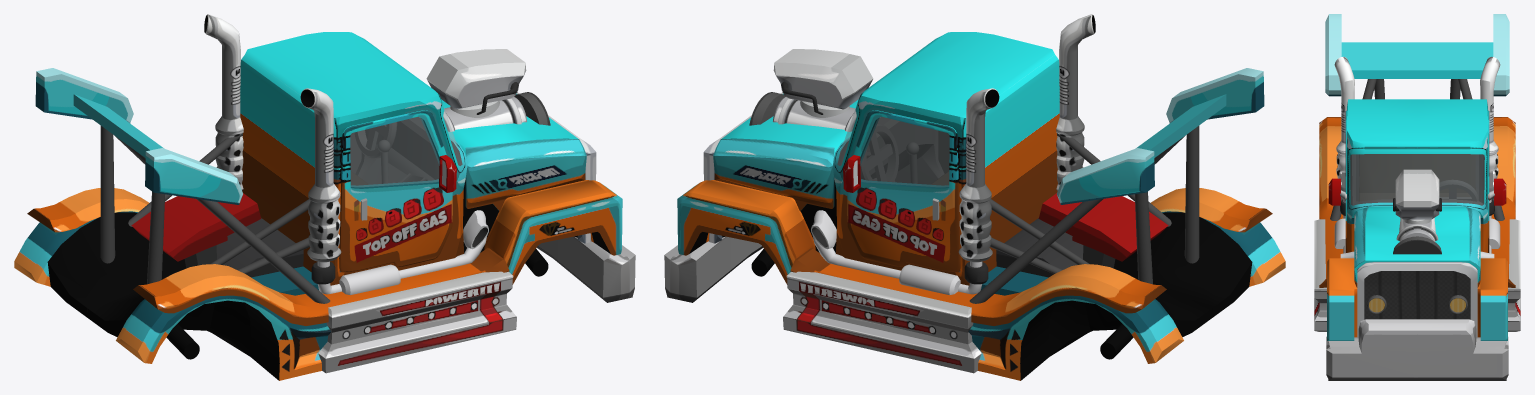
The model's file is chassis_4.glb.
The picture shows the model from 3 angles, left to right: view 1: azimuth 30°, elevation 25°; view 2: azimuth 150°, elevation 25°; view 3: azimuth 270°, elevation 25°; orthographic projection. The views are drawn at different scales.
Parts seen in each view (by area): view 1: HCR2_RT_Body_18, HCR2_RT_Details_15, HCR2_RT_Right_Door_9, HCR2_RT_Spoiler_7, HCR2_RT_Exhausts_13, HCR2_RT_Chassis_16, HCR2_RT_Engine_14, HCR2_RT_Interior_11, HCR2_RT_Bumper_17, HCR2_RT_Susp_5, HCR2_RT_Steer_6; view 2: HCR2_RT_Body_18, HCR2_RT_Details_15, HCR2_RT_Left_Door_10, HCR2_RT_Spoiler_7, HCR2_RT_Exhausts_13, HCR2_RT_Chassis_16, HCR2_RT_Engine_14, HCR2_RT_Bumper_17, HCR2_RT_Interior_11, HCR2_RT_Steer_6, HCR2_RT_Susp_5; view 3: HCR2_RT_Body_18, HCR2_RT_Bumper_17, HCR2_RT_Spoiler_7, HCR2_RT_Window_4, HCR2_RT_Details_15, HCR2_RT_Seat_8, HCR2_RT_Engine_14, HCR2_RT_Exhausts_13, HCR2_RT_Interior_11, HCR2_RT_Right_Door_9, HCR2_RT_Left_Door_10, HCR2_RT_Lights_12 (+1 smaller).
Part boxes in pixels (x1=…): HCR2_RT_Body_18: x1=14, y1=32, x2=622, y2=380; HCR2_RT_Details_15: x1=128, y1=92, x2=596, y2=373; HCR2_RT_Right_Door_9: x1=339, y1=110, x2=456, y2=272; HCR2_RT_Spoiler_7: x1=35, y1=68, x2=330, y2=303; HCR2_RT_Exhausts_13: x1=204, y1=14, x2=488, y2=295; HCR2_RT_Chassis_16: x1=47, y1=212, x2=577, y2=356; HCR2_RT_Engine_14: x1=426, y1=49, x2=550, y2=131; HCR2_RT_Interior_11: x1=339, y1=113, x2=462, y2=272; HCR2_RT_Bumper_17: x1=536, y1=236, x2=635, y2=302; HCR2_RT_Susp_5: x1=166, y1=249, x2=548, y2=359; HCR2_RT_Steer_6: x1=354, y1=122, x2=397, y2=158; HCR2_RT_Body_18: x1=677, y1=32, x2=1285, y2=380; HCR2_RT_Details_15: x1=703, y1=92, x2=1171, y2=373; HCR2_RT_Left_Door_10: x1=843, y1=110, x2=960, y2=272; HCR2_RT_Spoiler_7: x1=969, y1=68, x2=1264, y2=303; HCR2_RT_Exhausts_13: x1=811, y1=14, x2=1095, y2=295; HCR2_RT_Chassis_16: x1=722, y1=212, x2=1252, y2=356; HCR2_RT_Engine_14: x1=749, y1=49, x2=873, y2=131; HCR2_RT_Bumper_17: x1=664, y1=236, x2=763, y2=302; HCR2_RT_Interior_11: x1=837, y1=113, x2=960, y2=272; HCR2_RT_Steer_6: x1=860, y1=123, x2=898, y2=182; HCR2_RT_Susp_5: x1=751, y1=249, x2=1133, y2=359; HCR2_RT_Body_18: x1=1319, y1=99, x2=1515, y2=340; HCR2_RT_Bumper_17: x1=1326, y1=319, x2=1508, y2=380; HCR2_RT_Spoiler_7: x1=1325, y1=14, x2=1509, y2=220; HCR2_RT_Window_4: x1=1350, y1=154, x2=1484, y2=205; HCR2_RT_Details_15: x1=1314, y1=219, x2=1520, y2=338; HCR2_RT_Seat_8: x1=1359, y1=154, x2=1475, y2=201; HCR2_RT_Engine_14: x1=1393, y1=169, x2=1441, y2=254; HCR2_RT_Exhausts_13: x1=1334, y1=56, x2=1500, y2=258; HCR2_RT_Interior_11: x1=1350, y1=154, x2=1484, y2=205; HCR2_RT_Right_Door_9: x1=1328, y1=110, x2=1346, y2=252; HCR2_RT_Left_Door_10: x1=1488, y1=110, x2=1506, y2=252; HCR2_RT_Lights_12: x1=1367, y1=295, x2=1467, y2=313.
Bounding box in the file's own units: 4.88 × 2.59 × 2.32.
Materials: 2 (1 with a texture image).
